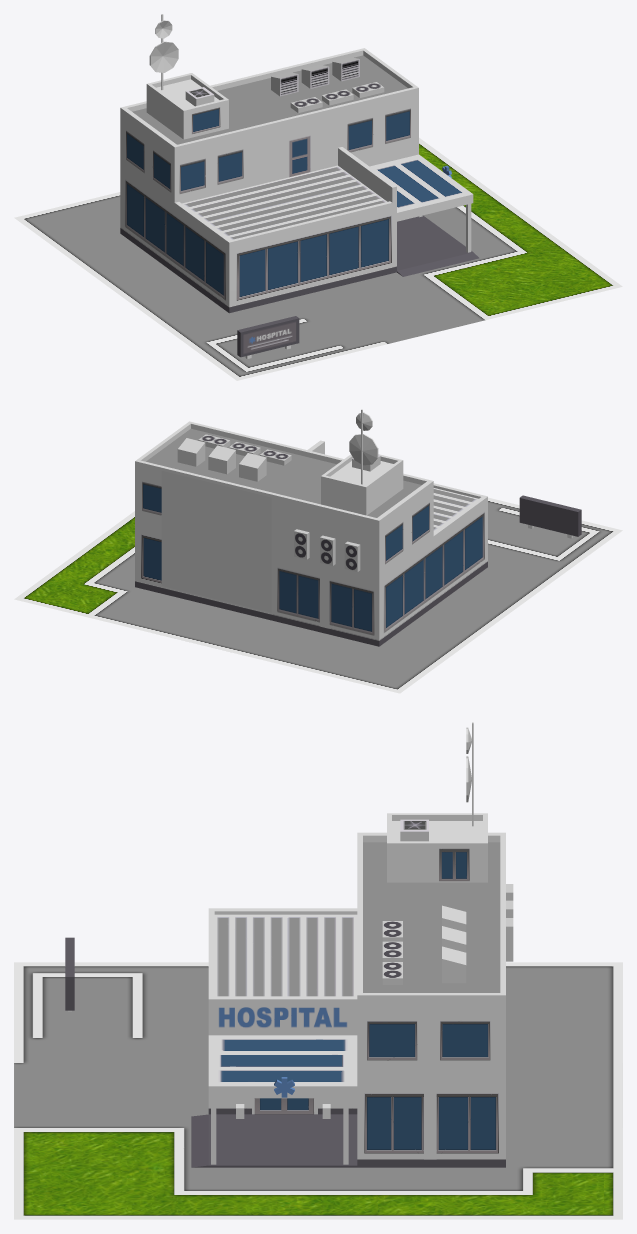
Rendered from Hospital_Lvl_2.fbx.
The picture shows the model from 3 angles, top to bottom: view 1: azimuth 30°, elevation 25°; view 2: azimuth 150°, elevation 25°; view 3: azimuth 270°, elevation 25°; orthographic projection. The views are drawn at different scales.
Visible parts, largest first — view 1: Hospital_LVL_2, Hospital_BG; view 2: Hospital_LVL_2, Hospital_BG, Graffiti_001; view 3: Hospital_BG, Hospital_LVL_2.
Boxes of the visible parts, box(x1,y1,x2,y2) form: Hospital_LVL_2: box(120, 14, 479, 358); Hospital_BG: box(14, 137, 622, 380); Hospital_LVL_2: box(135, 409, 581, 646); Hospital_BG: box(14, 497, 622, 693); Graffiti_001: box(161, 471, 271, 612); Hospital_BG: box(14, 962, 622, 1219); Hospital_LVL_2: box(65, 722, 513, 1167).
Size of the model in its own units: 2000 by 1093 by 2000.
